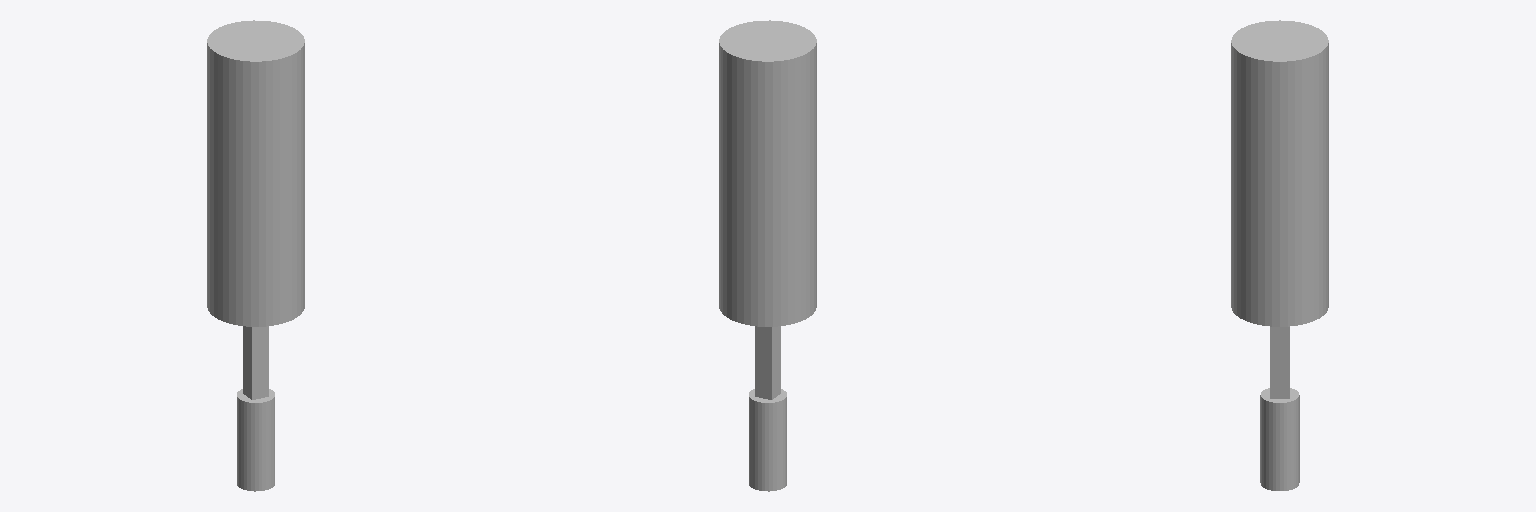
The robot description file, URDF, robot "one_arm":
<?xml version="1.0"?>
<robot name="one_arm">

  <!--base_footprint link-->
  <link name="base_footprint">
    <visual>
      <geometry>
        <cylinder length="0.1" radius="0.02"/>
      </geometry>
      <origin rpy="0 0 0" xyz="0 0 0.05"/>
      <material name="gray">
        <color rgba="0.8 0.8 0.8 0.5"/>
      </material>
    </visual>
  </link>

   <!--first_arm link-->
  <link name="first_arm">
    <visual>
      <geometry>
        <box size="0.02 0.02 0.11"/>
      </geometry>
      <origin rpy="0 0 0" xyz="0 0 0.045"/>
      <material name="gray">
      </material>
    </visual>
  </link>

   <!--second_arm link-->
  <link name="second_arm">
    <visual>
      <geometry>
        <mesh filename="package://robot_description/mesh/test2.stl"/>
      </geometry>
      <origin rpy="0 0 0" xyz="0 0 0.00"/>
      <material name="gray">
      </material>
    </visual>
  </link>

  <!--base_footprint to first_arm joint-->
  <joint name="base_footprint_to_first" type="revolute">
    <parent link="base_footprint"/>
    <child link="first_arm"/>
    <axis xyz="0 1 0"/>
    <origin xyz="0 0.0 0.1"/>
    <limit effort="1000" lower="-1.571" upper="1.571" velocity="0.5"/>
  </joint>

  <!--first_arm to second_arm joint-->
  <joint name="first_arm_to_second" type="revolute">
    <parent link="first_arm"/>
    <child link="second_arm"/>
    <axis xyz="0 1 1"/>
    <origin xyz="0 0.0 0.1"/>
    <limit effort="1000" lower="-1.571" upper="1.571" velocity="0.5"/>
  </joint>

</robot>

--- Render facts (derived) ---
3 views of the same robot in one strip: view 1: azimuth 30°, elevation 25°; view 2: azimuth 150°, elevation 25°; view 3: azimuth 270°, elevation 25° (orthographic).
Model one_arm with 3 links and 2 joints (2 revolute), rooted at base_footprint, posed every joint at zero.
Links seen in each view (by area): view 1: second_arm, base_footprint, first_arm; view 2: second_arm, base_footprint, first_arm; view 3: second_arm, base_footprint, first_arm.
Boxes of the visible links, left/top/right/bottom form: second_arm: left=207, top=20, right=304, bottom=326; base_footprint: left=237, top=389, right=274, bottom=491; first_arm: left=243, top=326, right=268, bottom=399; second_arm: left=719, top=20, right=816, bottom=326; base_footprint: left=749, top=389, right=786, bottom=491; first_arm: left=755, top=326, right=780, bottom=399; second_arm: left=1231, top=20, right=1328, bottom=326; base_footprint: left=1260, top=388, right=1299, bottom=490; first_arm: left=1270, top=327, right=1289, bottom=398.
Size in the robot's own frame: 0.1 by 0.1 by 0.5 metres.
Meshes: 1 distinct files referenced, 1 mesh visuals loaded (1 binary STL).